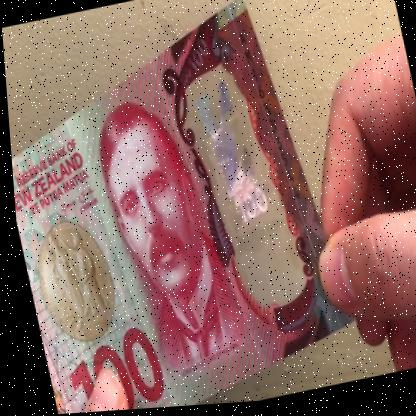100F: (188, 75, 294, 310)
